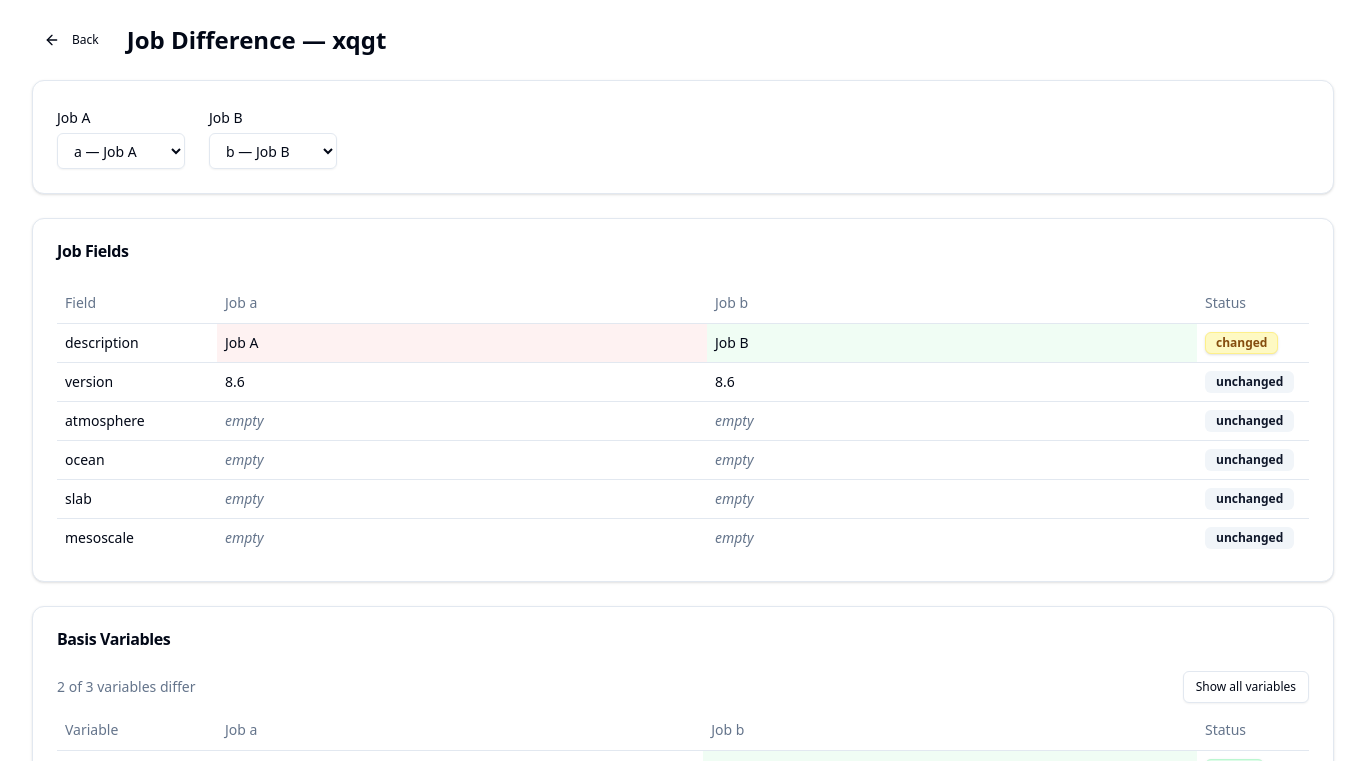
Test: DiffPage › allows toggling show all variables
The image size is (1366, 761).
Click the button "Show all variables". click: x=1246, y=686
box: [1183,670,1309,702]
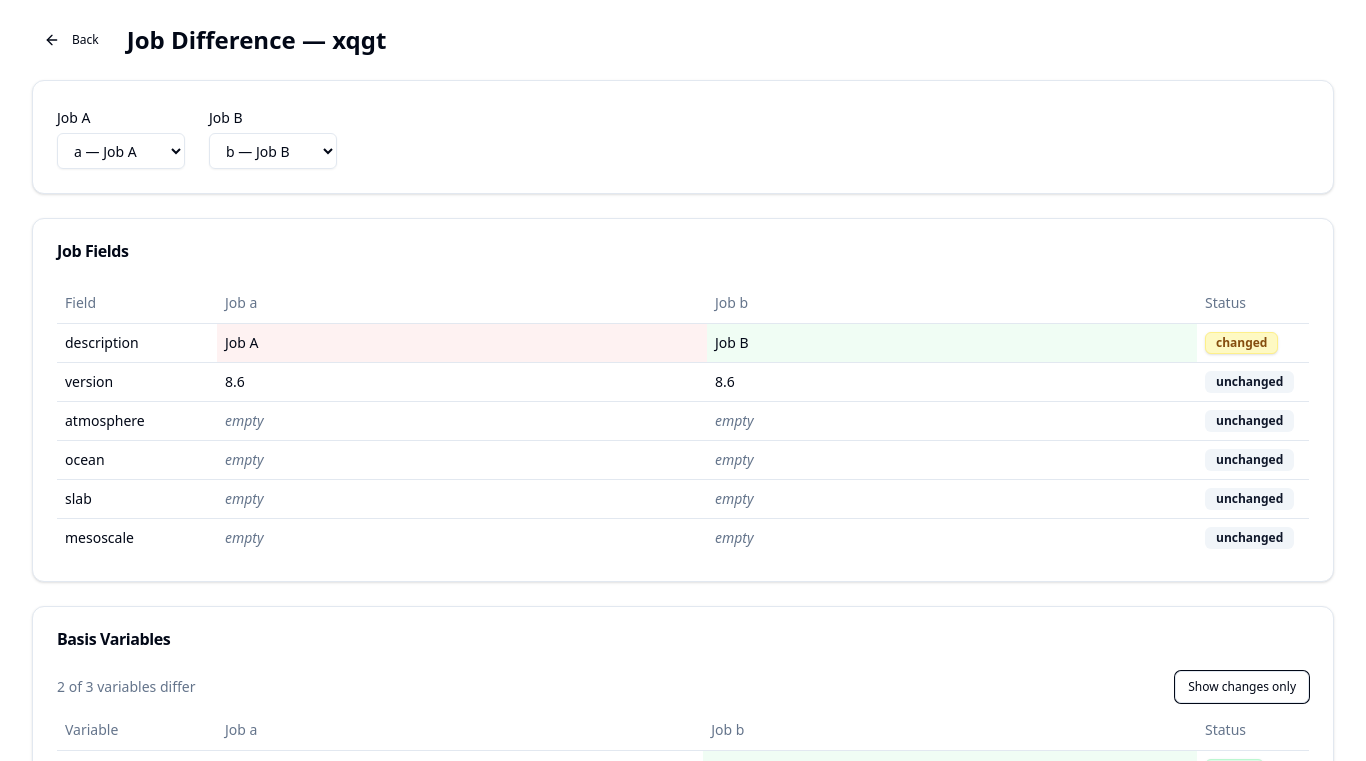
Check: the button "Show changes only" is shown, box [1175,670,1309,702]
